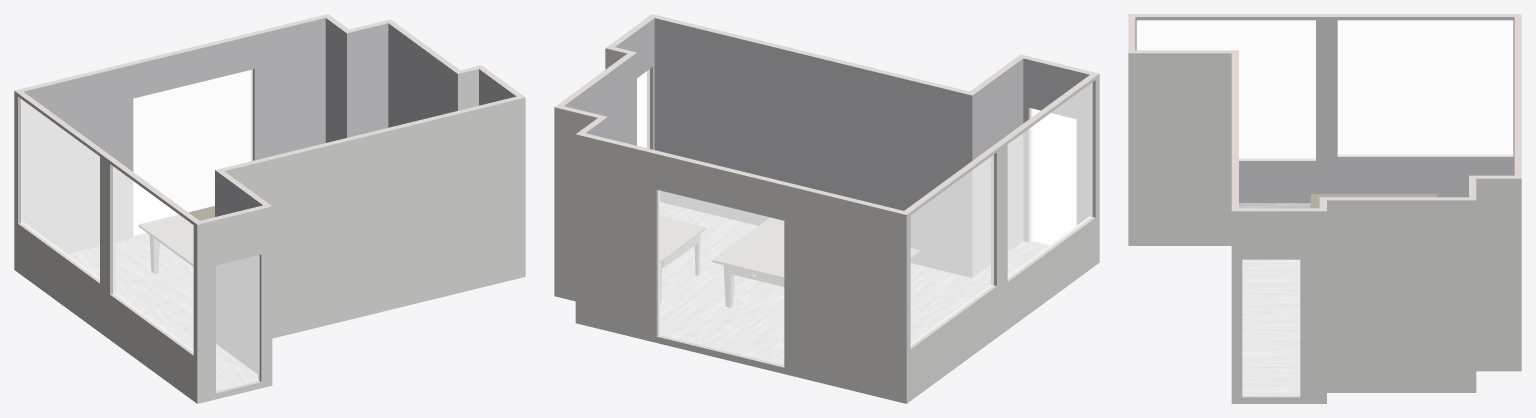
The model's file is Room_233B.glb.
3 views of the same model, side by side, from view 1: azimuth 30°, elevation 25°; view 2: azimuth 150°, elevation 25°; view 3: azimuth 270°, elevation 25° (orthographic). The views are drawn at different scales.
Parts seen in each view (by area): view 1: wall_1, wall_20, door_2, door_5, wall_8, window_1, window_3, window_0, window_2, wall_6, floor_Room, door_0 (+12 smaller); view 2: wall_12, wall_5, door_2, door_5, floor_Room, wall_8, window_1, window_3, window_0, window_2, wall_24, wall_22 (+13 smaller); view 3: wall_0, window_0, window_2, wall_7, wall_26, window_1, window_3, wall_9, wall_3, floor_Room, door_1, door_4 (+7 smaller).
Part boxes in pixels (<box>): wall_1: <box>224,97,525,338</box>; wall_20: <box>24,18,325,253</box>; door_2: <box>133,69,252,211</box>; door_5: <box>133,70,252,211</box>; wall_8: <box>14,91,197,403</box>; window_1: <box>113,166,193,352</box>; window_3: <box>113,167,193,351</box>; window_0: <box>21,99,99,280</box>; window_2: <box>21,99,99,279</box>; wall_6: <box>197,206,272,403</box>; floor_Room: <box>68,233,258,391</box>; door_0: <box>216,255,259,391</box>; wall_12: <box>654,18,972,277</box>; wall_5: <box>575,134,906,403</box>; door_2: <box>658,190,783,365</box>; door_5: <box>658,190,783,365</box>; floor_Room: <box>659,202,1048,365</box>; wall_8: <box>906,74,1099,403</box>; window_1: <box>1008,83,1092,278</box>; window_3: <box>1008,83,1092,277</box>; window_0: <box>911,155,993,345</box>; window_2: <box>911,155,993,345</box>; wall_24: <box>972,58,1023,277</box>; wall_22: <box>1023,58,1089,241</box>; wall_0: <box>1327,200,1476,392</box>; window_0: <box>1338,20,1512,155</box>; window_2: <box>1338,20,1512,155</box>; wall_7: <box>1128,53,1231,245</box>; wall_26: <box>1135,17,1514,202</box>; window_1: <box>1137,20,1315,158</box>; window_3: <box>1137,20,1315,158</box>; wall_9: <box>1231,211,1326,403</box>; wall_3: <box>1476,178,1521,371</box>; floor_Room: <box>1239,203,1310,395</box>; door_1: <box>1242,260,1299,395</box>; door_4: <box>1242,260,1299,395</box>.
Bounding box in the file's own units: 6.48 × 2.95 × 5.46.
26 materials, 1 textured.
